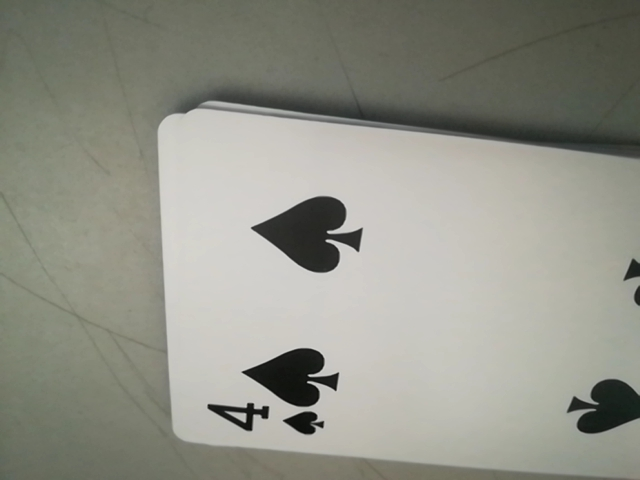ht 4: (197, 396, 336, 446)
